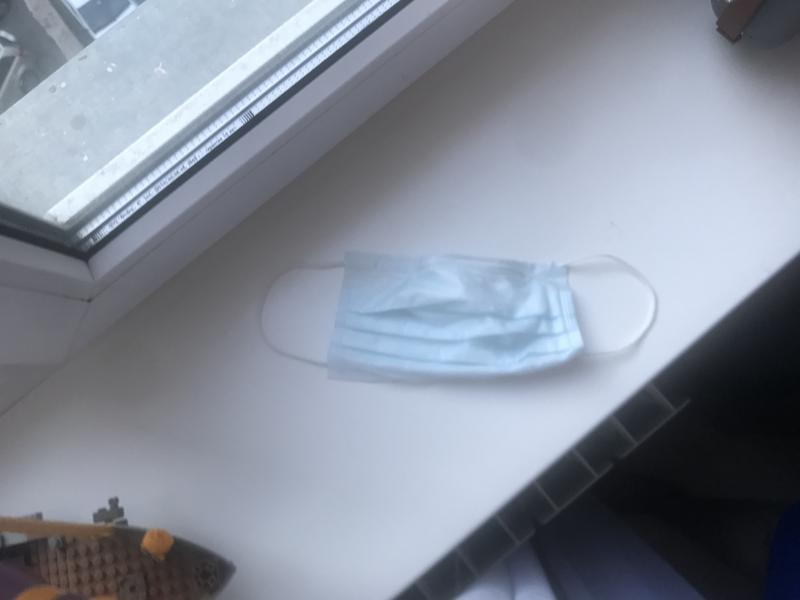medical_mask: (258, 255, 658, 374)
